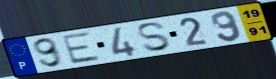2: (179, 16, 209, 47)
4: (110, 26, 138, 58)
9: (210, 10, 244, 44), (31, 37, 65, 69)
E: (59, 30, 103, 66)
S: (136, 21, 174, 53)
